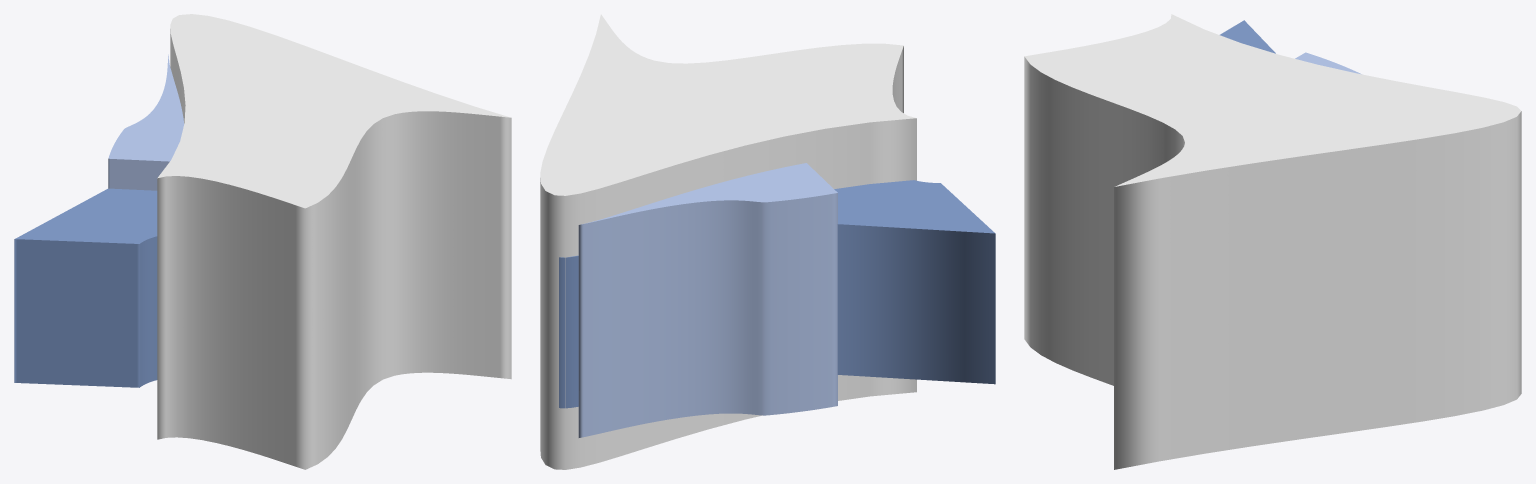
The model's file is matlab.glb.
3 renders of one model, left to right at view 1: azimuth 30°, elevation 25°; view 2: azimuth 150°, elevation 25°; view 3: azimuth 270°, elevation 25°, orthographic. The views are drawn at different scales.
Parts seen in each view (by area): view 1: Curve.004, Curve.001, Curve.003; view 2: Curve.004, Curve.003, Curve.001; view 3: Curve.004, Curve.001.
Part boxes in pixels (x1,y1,x2,y2): Curve.004: [157, 14, 511, 469]; Curve.001: [14, 188, 157, 387]; Curve.003: [108, 54, 184, 190]; Curve.004: [540, 14, 916, 469]; Curve.003: [578, 163, 837, 437]; Curve.001: [559, 180, 995, 408]; Curve.004: [1024, 14, 1521, 469]; Curve.001: [1220, 20, 1275, 53].
Bounding box in the file's own units: 0.0315 × 0.018 × 0.0287.
